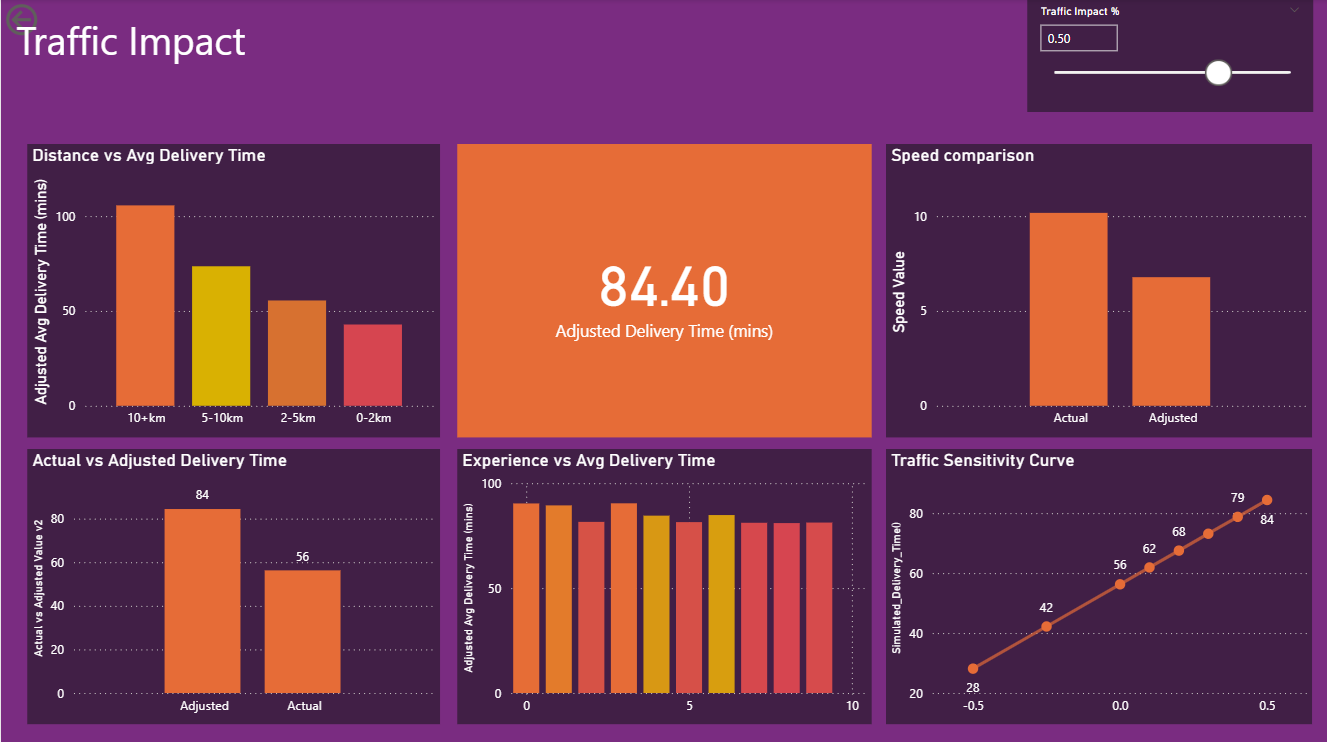

The page's visual inventory and layout, read from the dashboard file:
{"tool":"powerbi","page":{"name":"Traffic Impact","canvas":[1280,720],"ordinal":3},"visuals":[{"type":"slicer","fields":{"Values":["Traffic Impact %.Traffic Impact %"]},"box":[990,0,275.7,108.6],"z":0},{"type":"card","fields":{"Values":["Traffic Impact %.Adjusted Delivery Time (mins)"]},"box":[440,140,400,282.9],"z":1000},{"type":"actionButton","box":[0,0,100,40],"z":2000},{"type":"lineChart","title":"Traffic Sensitivity Curve","fields":{"Category":["Traffic Simulation.Traffic level Simulation"],"Y":["Actual VS Predicted.Simulated_Delivery_Time()"]},"box":[854.3,434.3,411.4,265.7],"z":3000},{"type":"clusteredColumnChart","title":"Actual vs Adjusted Delivery Time","fields":{"Y":["Actual VS Predicted.Actual vs Adjusted Value v2"],"Category":["ComparisonTable (2).category"]},"box":[25.7,434.3,398.6,265.7],"z":4000},{"type":"clusteredColumnChart","title":"Distance vs Avg Delivery Time","fields":{"Y":["Traffic Impact %.Adjusted Avg Delivery Time (mins)"],"Category":["zepto_delivery.Distance bucket"]},"box":[25.7,140,398.6,282.9],"z":5000},{"type":"clusteredColumnChart","title":"Experience vs Avg Delivery Time","fields":{"Y":["Traffic Impact %.Adjusted Avg Delivery Time (mins)"],"Category":["zepto_delivery.courier experience yrs"]},"box":[440,434.3,400,265.7],"z":6000},{"type":"clusteredColumnChart","title":"Speed comparison","fields":{"Y":["Actual VS Predicted.Speed Value"],"Category":["Speed Comparison.Label"]},"box":[854.3,140,411.4,282.9],"z":7000},{"type":"textbox","box":[10,10,345.7,117.1],"z":8000}]}

Visuals, with their boxes in screenshot pixels (x1, y1, x2, y2), scaled from the page's 1280x720 canvas onto the 1327x742 screenshot:
slicer - Traffic Impact %.Traffic Impact %: bbox(1026, 0, 1312, 112)
card - Traffic Impact %.Adjusted Delivery Time (mins): bbox(456, 144, 871, 436)
actionButton: bbox(0, 0, 104, 41)
"Traffic Sensitivity Curve" lineChart: bbox(886, 448, 1312, 721)
"Actual vs Adjusted Delivery Time" clusteredColumnChart: bbox(27, 448, 440, 721)
"Distance vs Avg Delivery Time" clusteredColumnChart: bbox(27, 144, 440, 436)
"Experience vs Avg Delivery Time" clusteredColumnChart: bbox(456, 448, 871, 721)
"Speed comparison" clusteredColumnChart: bbox(886, 144, 1312, 436)
textbox: bbox(10, 10, 369, 131)
